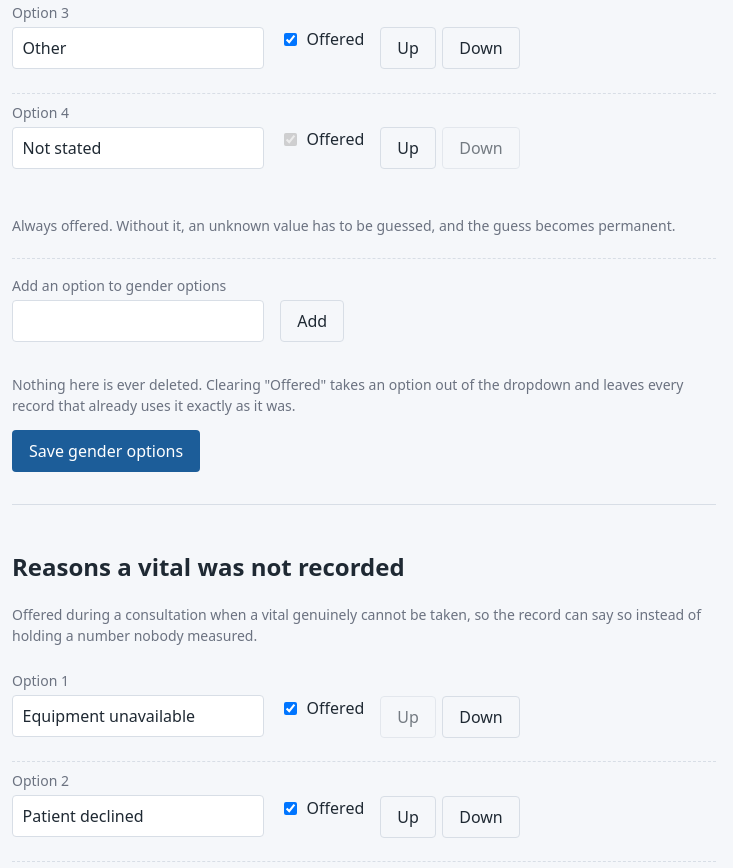
Test case: ClinicSettingsPage › renders a server field error against the row it belongs to
(page scrolled)
Click the button "Save gender options": (106, 451) [12, 430, 200, 472]
(page scrolled)
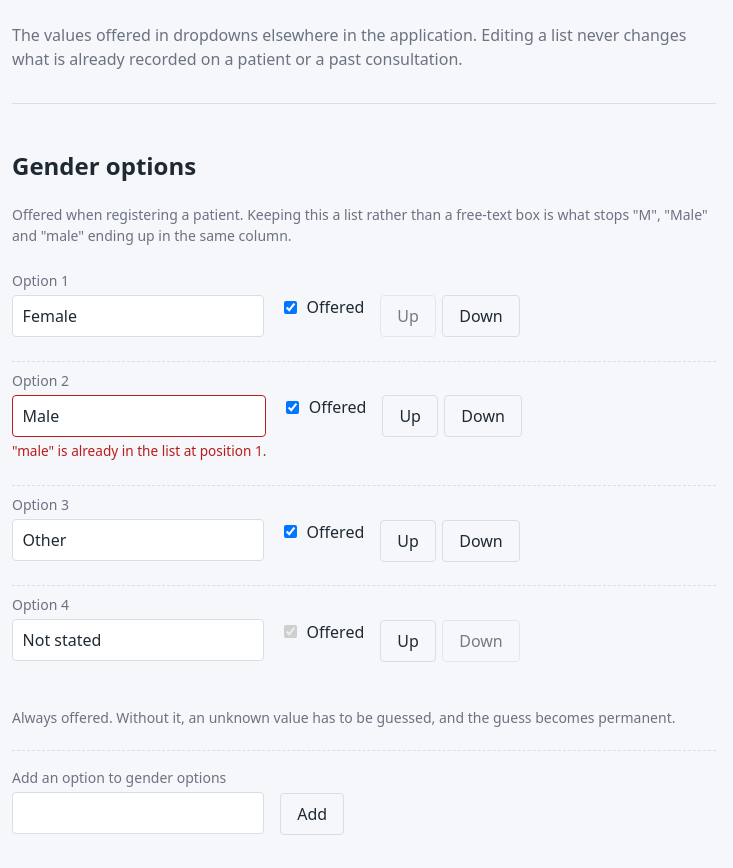
Now the text "\"male\" is already in the list at position 1." is shown, box [12, 441, 266, 461]
